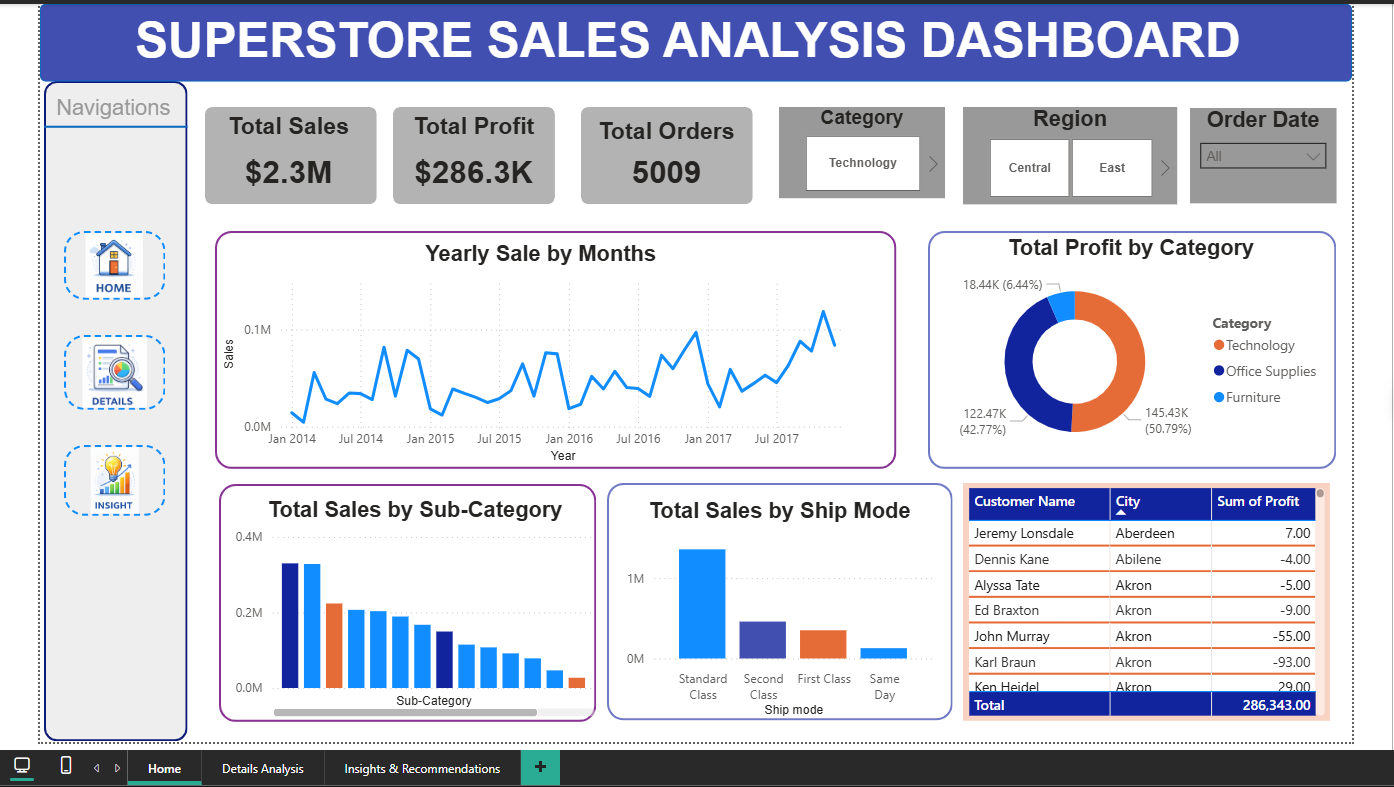

Layout of this report page (visuals, bound fields, positions):
{"tool":"powerbi","page":{"name":"Page 1","canvas":[1280,720],"ordinal":0},"visuals":[{"type":"shape","box":[949,483.4,318.6,221.1],"z":0},{"type":"tableEx","fields":{"Values":["Superstore_sales_dataset.Customer Name","Superstore_sales_dataset.City","Superstore_sales_dataset.Ship Mode","Superstore_sales_dataset.Sub-Category","Superstore_sales_dataset.Product ID","Sum(Superstore_sales_dataset.Quantity)","Sum(Superstore_sales_dataset. Profit )"]},"box":[502.7,200.5,765,271.9],"z":1000},{"type":"pieChart","title":"Total Profit  by Category","fields":{"Y":["Sum(Superstore_sales_dataset. Profit )"],"Category":["Superstore_sales_dataset.Category"]},"box":[953.1,490.3,309,208.8],"z":2000},{"type":"shape","box":[6.9,472.4,553.5,232.1],"z":3000},{"type":"shape","box":[576.8,483.4,357.1,221.1],"z":4000},{"type":"shape","box":[1.4,200.5,486.2,251.3],"z":5000},{"type":"shape","box":[0,0,1280,75.5],"z":6000},{"type":"shape","box":[6.9,87.9,144.2,100.3],"z":7000},{"type":"lineStackedColumnComboChart","title":"Regional Sales by States ","fields":{"Y":["Sum(Superstore_sales_dataset. Sales )"],"Series":["Superstore_sales_dataset.State"],"Category":["Superstore_sales_dataset.Region"]},"box":[5.5,211.5,476.6,229.4],"z":8000},{"type":"lineChart","title":"Yearly Sale by Months ","fields":{"Y":["Sum(Superstore_sales_dataset. Sales )"],"Category":["Superstore_sales_dataset.Order Date.Variation.Date Hierarchy.Year","Superstore_sales_dataset.Order Date.Variation.Date Hierarchy.Month"]},"box":[17.9,483.4,531.5,221.1],"z":9000},{"type":"clusteredColumnChart","title":"Category Sales by Order Priority","fields":{"Category":["Superstore_sales_dataset.Category"],"Y":["Sum(Superstore_sales_dataset. Sales )"],"Series":["Superstore_sales_dataset.Order_Priority"]},"box":[576.8,495.8,347.5,197.8],"z":10000},{"type":"shape","box":[160.7,87.9,144.2,100.3],"z":11000},{"type":"shape","box":[313.1,93.4,189.5,94.8],"z":12000},{"type":"shape","box":[513.6,93.4,200.5,100.3],"z":13000},{"type":"shape","box":[732,93.4,170.3,94.8],"z":14000},{"type":"shape","box":[911.9,93.4,168.9,94.8],"z":15000},{"type":"shape","box":[1094.6,93.4,157.9,94.8],"z":16000},{"type":"card","title":"YoY Growth","fields":{"Values":["Measures (2).YoY Growth"]},"box":[1094.6,98.9,157.9,89.3],"z":17000},{"type":"card","title":"Total Sales","fields":{"Values":["Measures (2).Total Sales"]},"box":[11,98.9,136,89.3],"z":18000},{"type":"card","title":"Total Profit","fields":{"Values":["Measures (2).Total Profit"]},"box":[160.7,98.9,144.2,89.3],"z":19000},{"type":"card","title":"Sales Last Year","fields":{"Values":["Measures (2).Sales Last Year"]},"box":[313.1,98.9,189.5,83.8],"z":20000},{"type":"card","title":"Profit Margin","fields":{"Values":["Measures (2).Profit Ma rgin"]},"box":[513.6,96.1,200.5,94.8],"z":21000},{"type":"card","title":"Total Orders","fields":{"Values":["Measures (2).Total Orders"]},"box":[732,98.9,170.3,79.7],"z":22000},{"type":"card","title":"Monthly Sales","fields":{"Values":["Measures (2).Monthly Sales"]},"box":[911.9,98.9,168.9,83.8],"z":23000},{"type":"textbox","box":[82.4,2.7,1113.8,67.3],"z":24000}]}

Visuals, with their boxes on the page's 1280x720 design canvas (x1, y1, x2, y2). These are canvas units, not pixel positions in the 1394x787 screenshot, which may show the page scaled, cropped or inside an application window:
shape: x1=949, y1=483, x2=1268, y2=704
tableEx - Superstore_sales_dataset.Customer Name x Superstore_sales_dataset.City: x1=503, y1=200, x2=1268, y2=472
"Total Profit  by Category" pieChart: x1=953, y1=490, x2=1262, y2=699
shape: x1=7, y1=472, x2=560, y2=704
shape: x1=577, y1=483, x2=934, y2=704
shape: x1=1, y1=200, x2=488, y2=452
shape: x1=0, y1=0, x2=1280, y2=76
shape: x1=7, y1=88, x2=151, y2=188
"Regional Sales by States " lineStackedColumnComboChart: x1=6, y1=212, x2=482, y2=441
"Yearly Sale by Months " lineChart: x1=18, y1=483, x2=549, y2=704
"Category Sales by Order Priority" clusteredColumnChart: x1=577, y1=496, x2=924, y2=694
shape: x1=161, y1=88, x2=305, y2=188
shape: x1=313, y1=93, x2=503, y2=188
shape: x1=514, y1=93, x2=714, y2=194
shape: x1=732, y1=93, x2=902, y2=188
shape: x1=912, y1=93, x2=1081, y2=188
shape: x1=1095, y1=93, x2=1252, y2=188
"YoY Growth" card: x1=1095, y1=99, x2=1252, y2=188
"Total Sales" card: x1=11, y1=99, x2=147, y2=188
"Total Profit" card: x1=161, y1=99, x2=305, y2=188
"Sales Last Year" card: x1=313, y1=99, x2=503, y2=183
"Profit Margin" card: x1=514, y1=96, x2=714, y2=191
"Total Orders" card: x1=732, y1=99, x2=902, y2=179
"Monthly Sales" card: x1=912, y1=99, x2=1081, y2=183
textbox: x1=82, y1=3, x2=1196, y2=70
